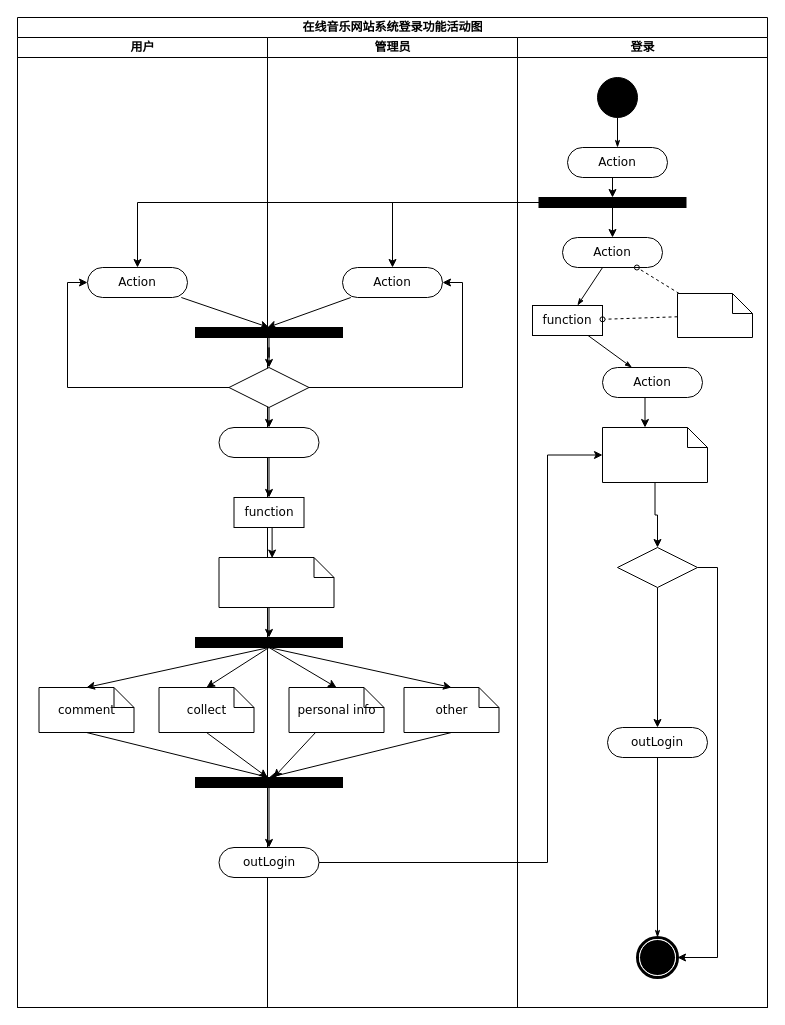
The diagram is 785 pixels wide and 1025 high, and some of its shapes have lost their labels. Here are the shapes that lost their labels. From the top down, the centre of each, then its label:
At [714,315]: "LoginPage".
At [268,387]: "if(success)".
At [268,442]: "success".
At [655,454]: "HomePage".
At [276,582]: "Full functionality".
At [657,567]: "if(state)".
